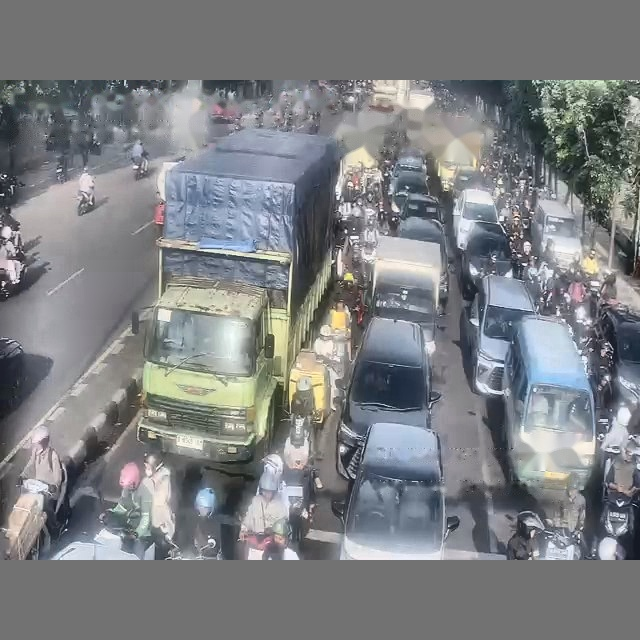Mobil: (332, 422, 459, 559), (336, 317, 440, 478), (461, 275, 535, 395), (395, 217, 449, 308), (595, 306, 639, 406), (459, 222, 512, 299), (453, 189, 498, 249), (0, 337, 24, 414), (390, 172, 429, 214), (388, 157, 428, 194), (400, 194, 443, 223), (452, 167, 484, 195), (396, 147, 427, 172), (341, 89, 364, 111)
Motor: (3, 469, 68, 559), (77, 191, 94, 215), (132, 158, 148, 180)
Truk: (137, 129, 340, 472)
